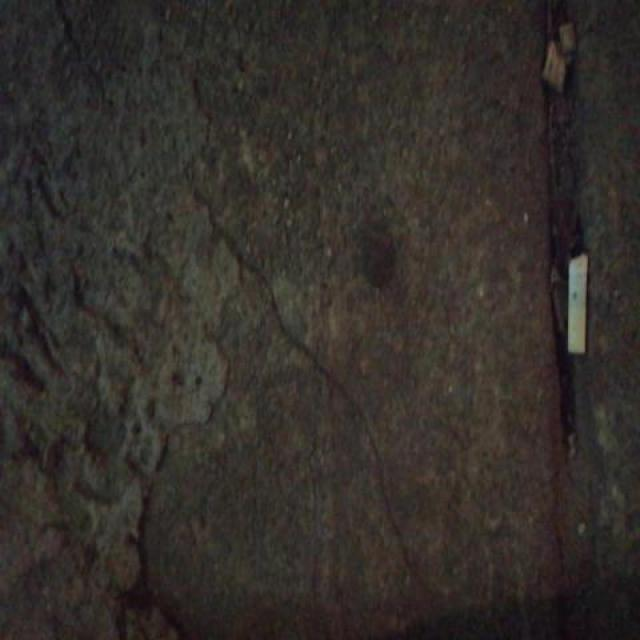non-organic waste: (566, 245, 590, 356)
